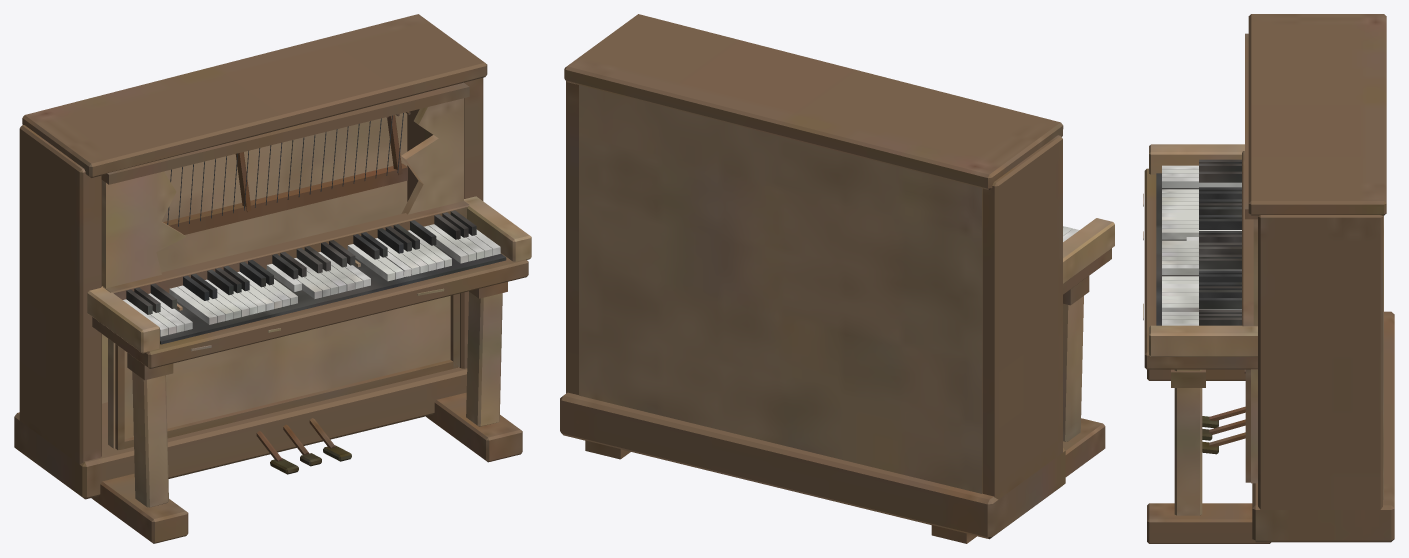
Rendered from BR23_broken_piano.glb.
3 views of the same model, side by side, from view 1: azimuth 30°, elevation 25°; view 2: azimuth 150°, elevation 25°; view 3: azimuth 270°, elevation 25° (orthographic). The views are drawn at different scales.
Parts seen in each view (by area): view 1: Heavy bottom plinth; view 2: Heavy bottom plinth; view 3: Heavy bottom plinth.
Part boxes in pixels (box(x1,y1,x2,y2)): Heavy bottom plinth: box(14, 14, 531, 543); Heavy bottom plinth: box(560, 14, 1114, 543); Heavy bottom plinth: box(1143, 14, 1394, 543).
Size of the model in its own units: 1.6 by 1.33 by 0.8645.
Materials: 7 (7 with a texture image).
